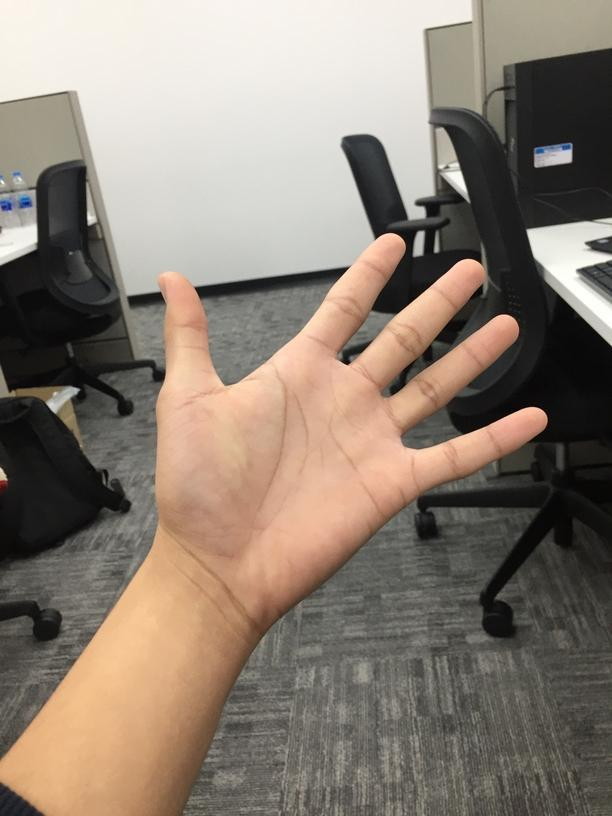hand: (155, 224, 548, 594)
